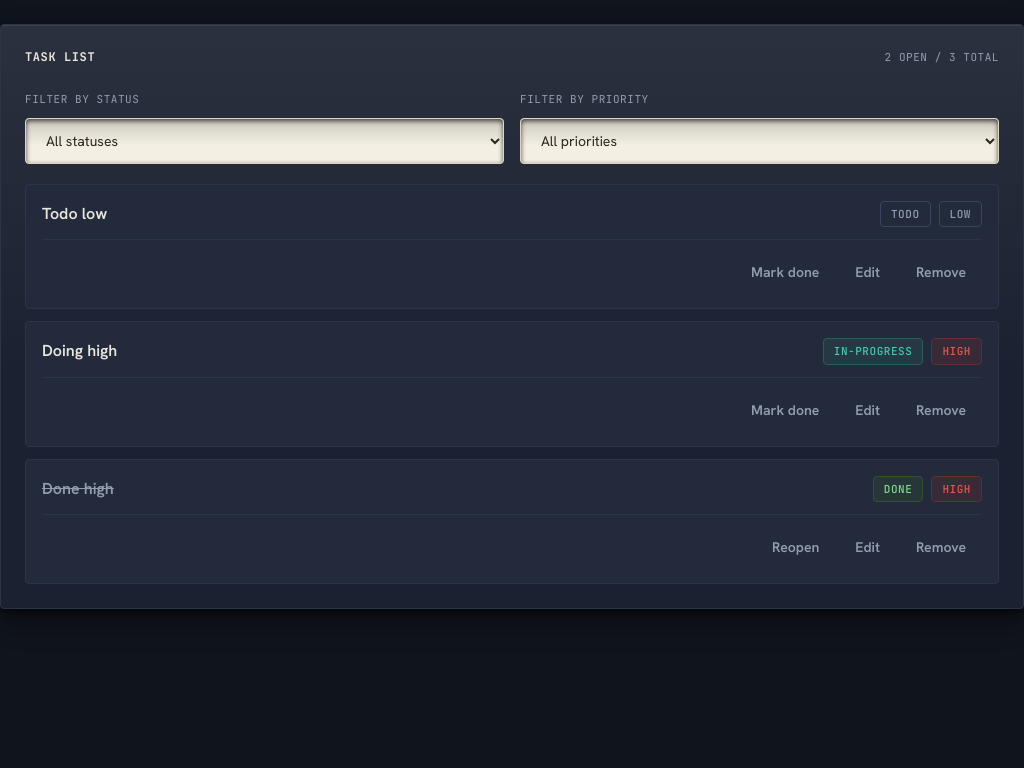
TaskList filtering › narrows by priority
Select "High" in the dropdown labelled "Filter by priority". click: (760,140)
box: x1=520 y1=118 x2=999 y2=164
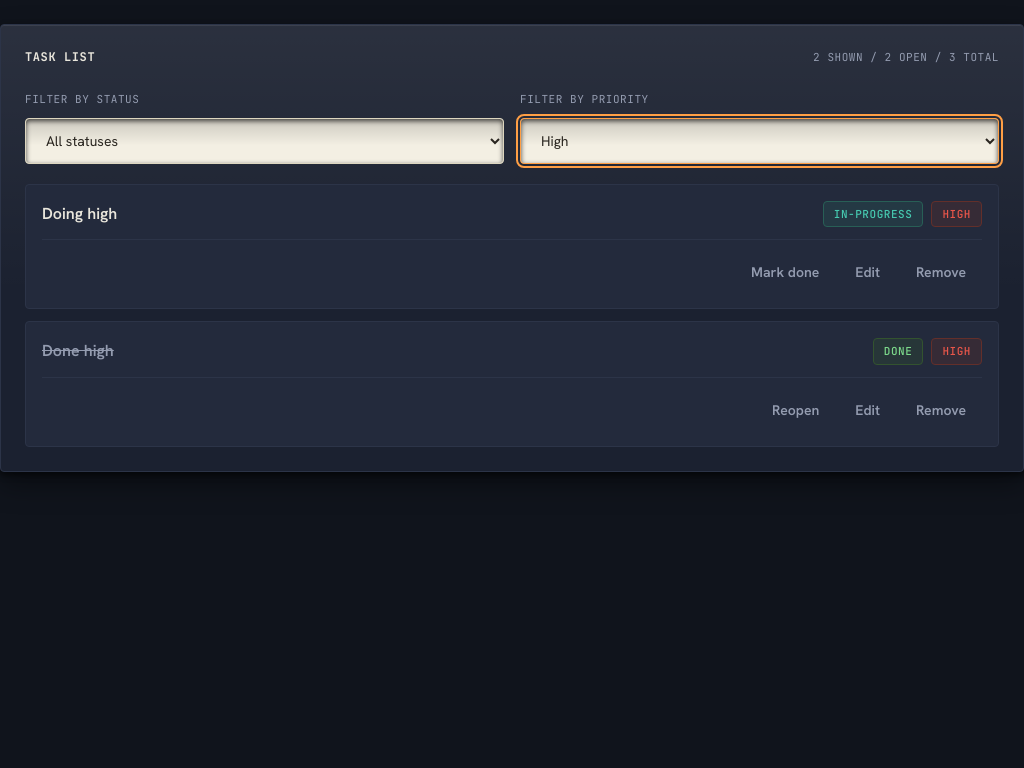
expect the text "Doing high" is shown: met, box x1=42 y1=202 x2=117 y2=226
expect the text "Todo low" is gone: met
